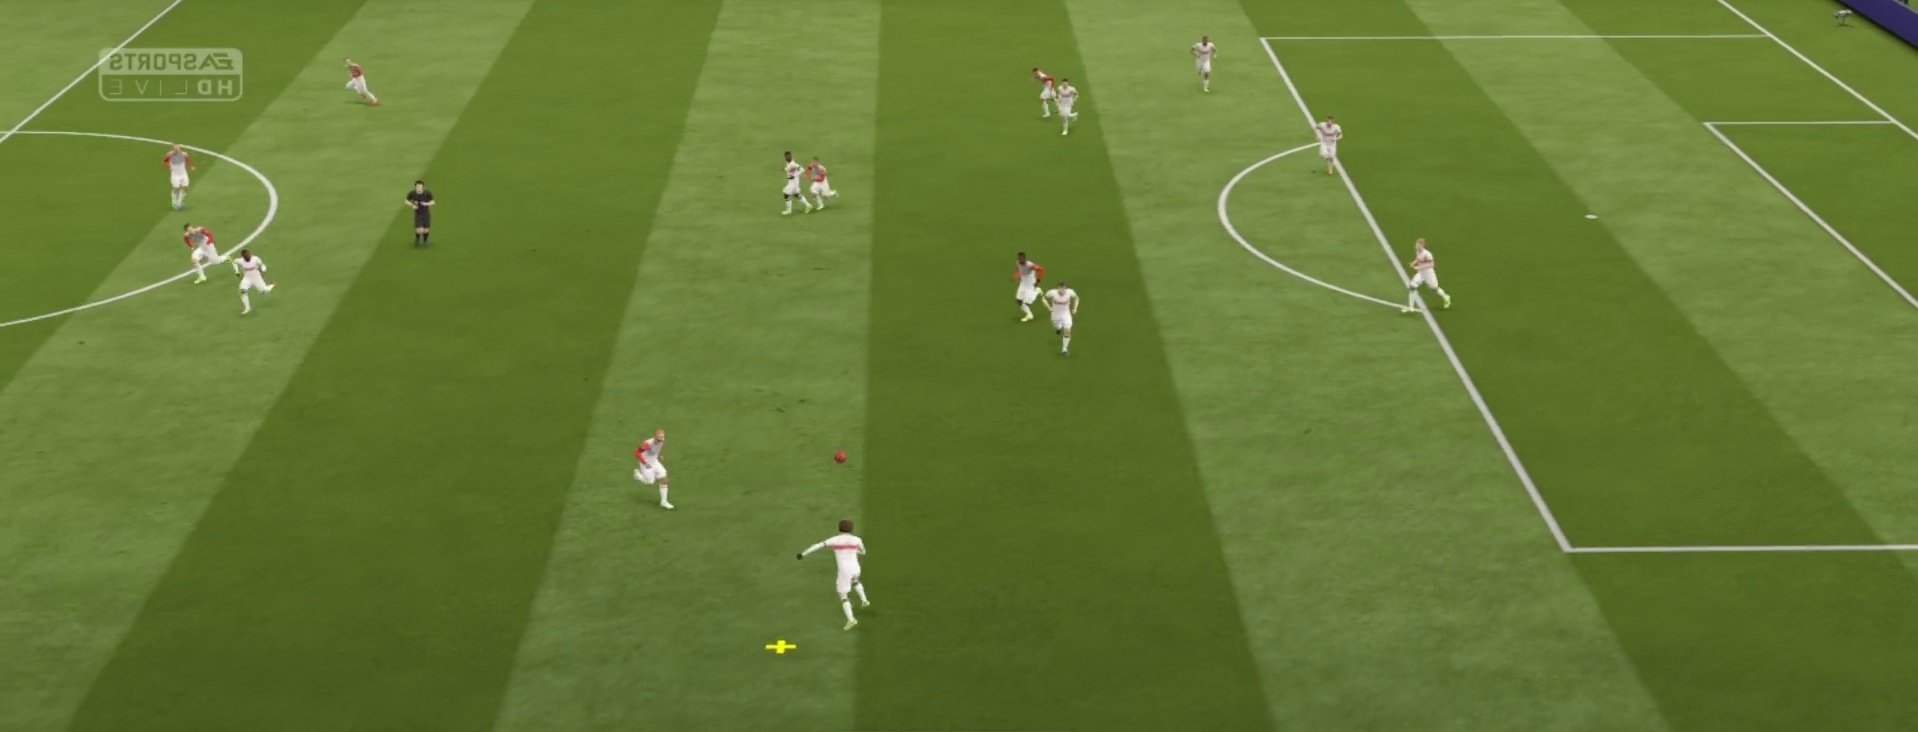ball: (830, 445, 852, 470)
person: (794, 517, 873, 631), (1402, 232, 1450, 315), (631, 426, 671, 512), (230, 246, 278, 315), (1040, 281, 1081, 357), (185, 219, 226, 286), (1009, 251, 1045, 324), (159, 139, 195, 207), (1312, 112, 1345, 179), (802, 151, 838, 212), (1188, 31, 1221, 95), (778, 146, 809, 215), (406, 179, 437, 248), (1031, 58, 1062, 122), (340, 55, 376, 105), (1054, 76, 1083, 132)
